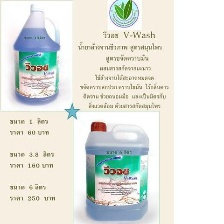cleaning_solution: (81, 118, 152, 223), (9, 1, 63, 106)
